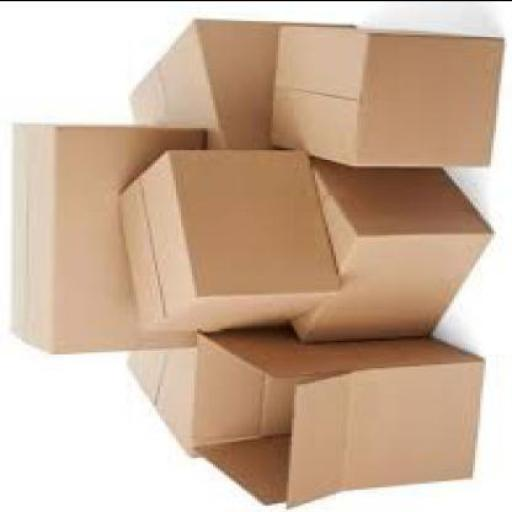cardboard: (189, 341, 481, 508), (8, 121, 210, 355), (113, 146, 331, 334), (286, 167, 494, 339), (260, 26, 504, 168), (126, 22, 350, 153), (124, 328, 284, 458)
